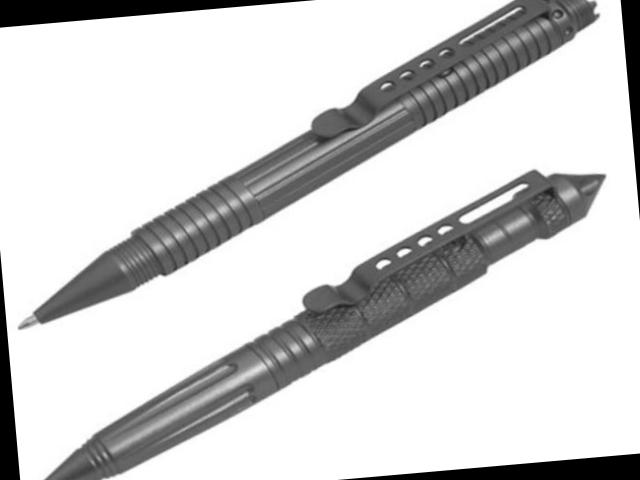PEN: (13, 118, 634, 480)
